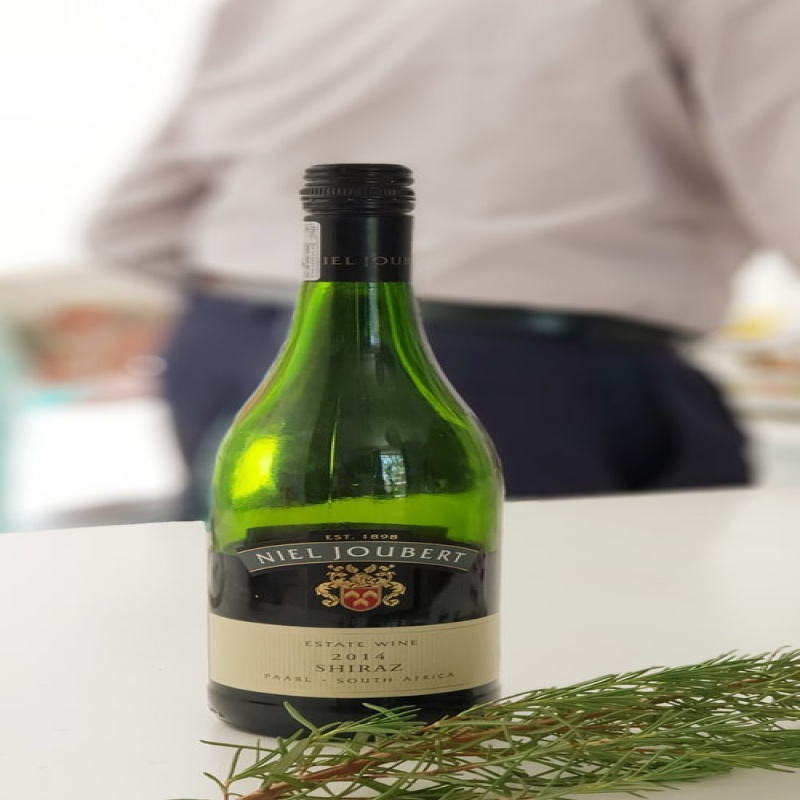wine: (210, 165, 505, 728)
